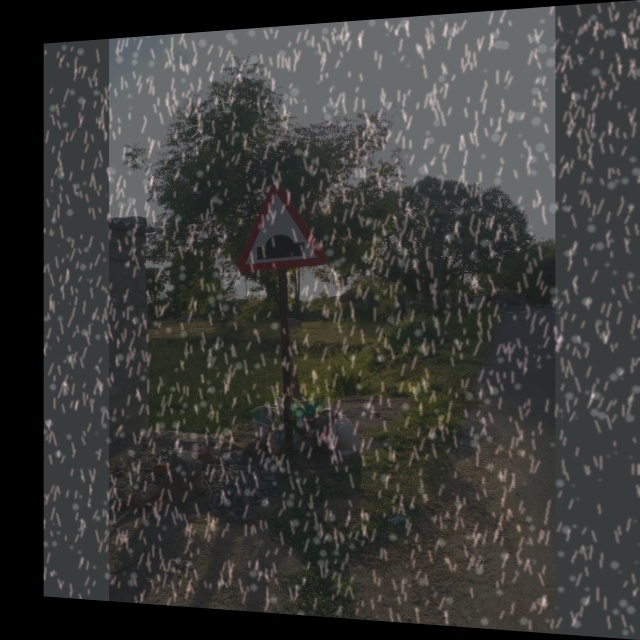Hump_or_Rough_Road: (239, 182, 328, 272)
